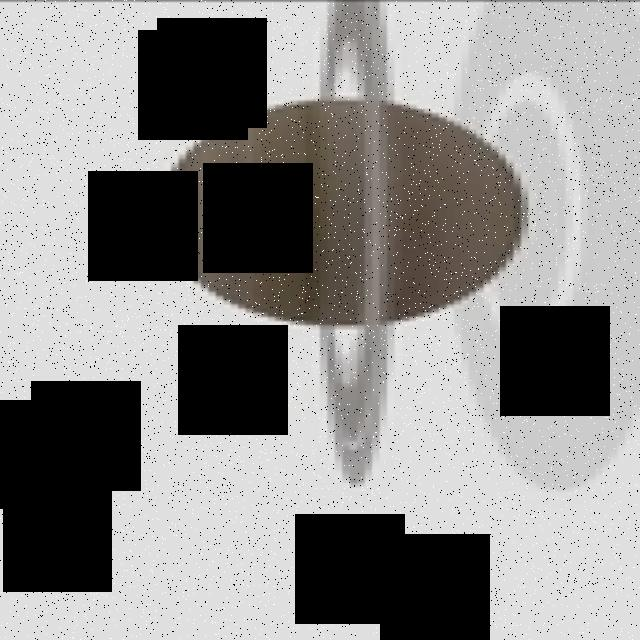Saturn: (148, 0, 528, 486)
